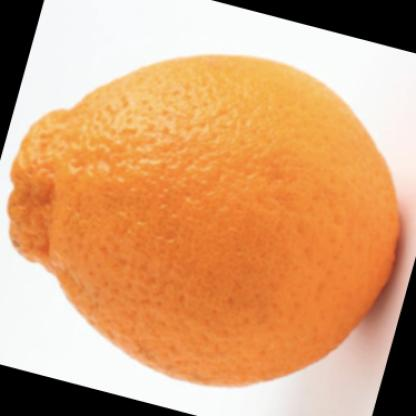fresh: (11, 56, 400, 388)
